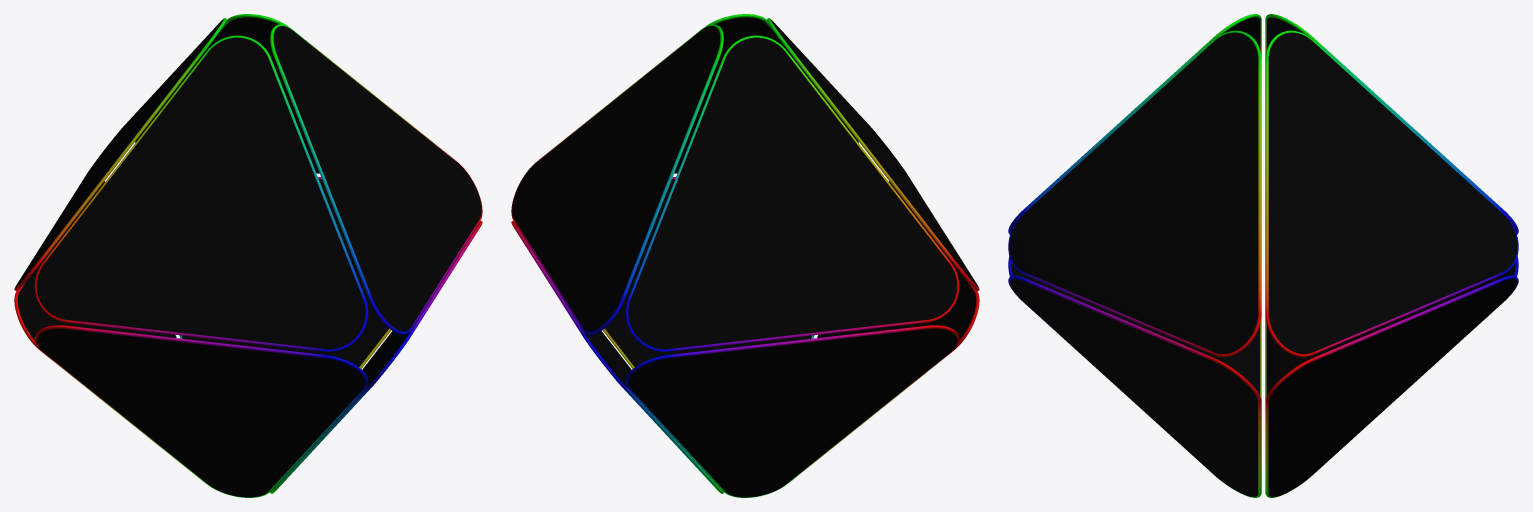
File: heygen-prism.glb
3 views of the same model, side by side, from view 1: azimuth 30°, elevation 25°; view 2: azimuth 150°, elevation 25°; view 3: azimuth 270°, elevation 25° (orthographic).
Parts seen in each view (by area): view 1: Geometry; view 2: Geometry; view 3: Geometry.
Part boxes in pixels (x1,y1,x2,y2): Geometry: (14, 14, 482, 497); Geometry: (511, 14, 979, 497); Geometry: (1008, 14, 1518, 497).
Bounding box in the file's own units: 2.3 × 2.3 × 2.3.
